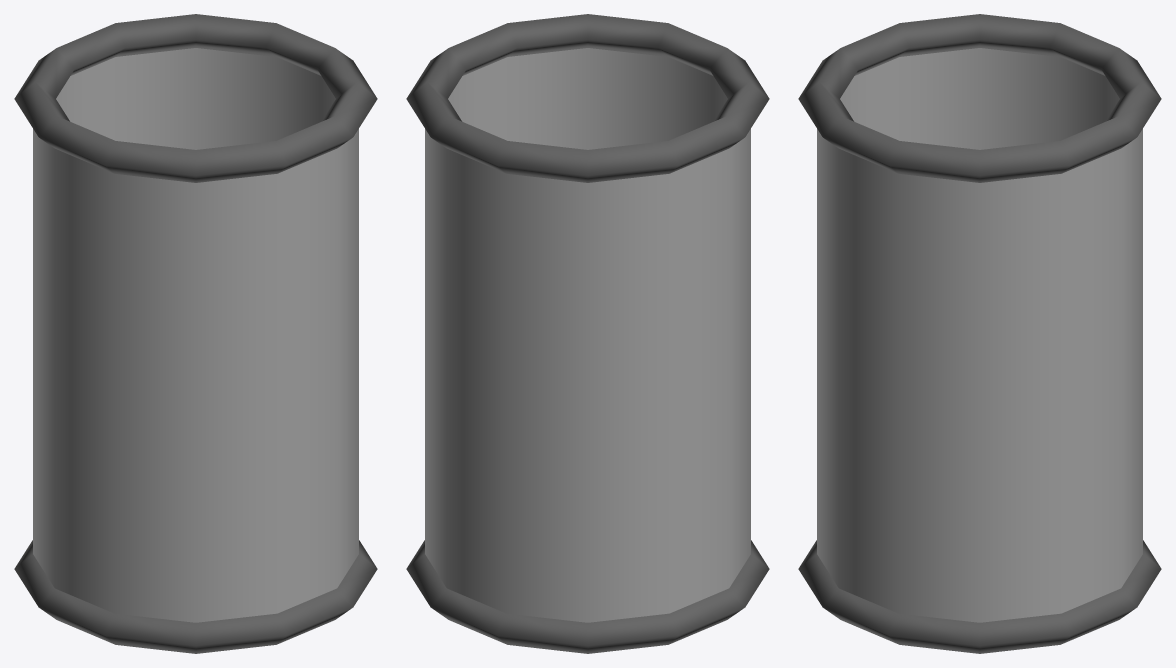
Rendered from pipe_007.fbx.
3 renders of one model, left to right at view 1: azimuth 30°, elevation 25°; view 2: azimuth 150°, elevation 25°; view 3: azimuth 270°, elevation 25°, orthographic.
Visible parts, largest first — view 1: pipe_007; view 2: pipe_007; view 3: pipe_007.
Part boxes in pixels (x1=…): pipe_007: x1=14, y1=14, x2=377, y2=653; pipe_007: x1=406, y1=14, x2=769, y2=653; pipe_007: x1=798, y1=14, x2=1161, y2=653.
Size of the model in its own units: 214 by 214 by 327.
